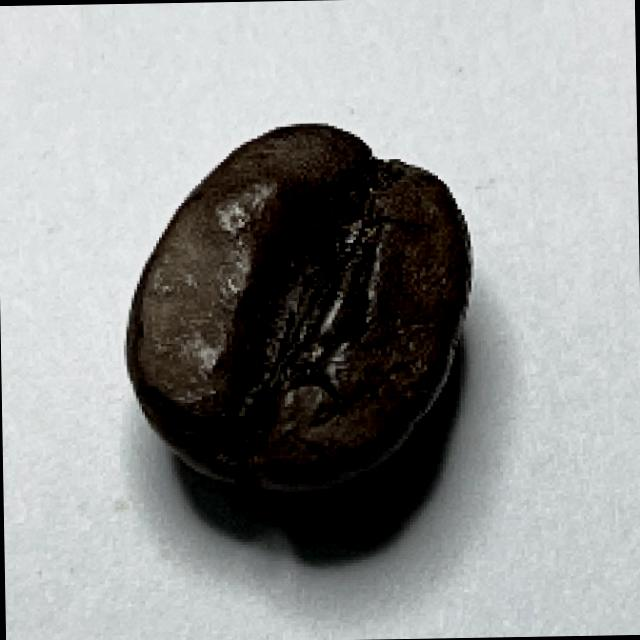bean: (120, 115, 483, 498)
